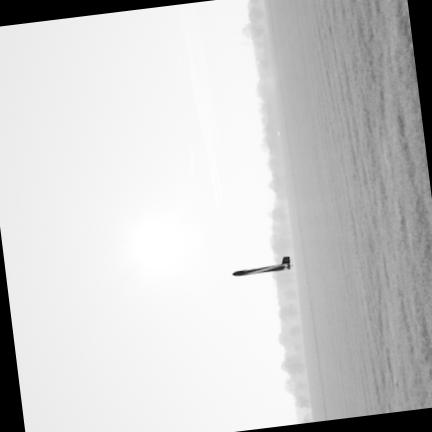Shahed: (233, 255, 289, 274)
